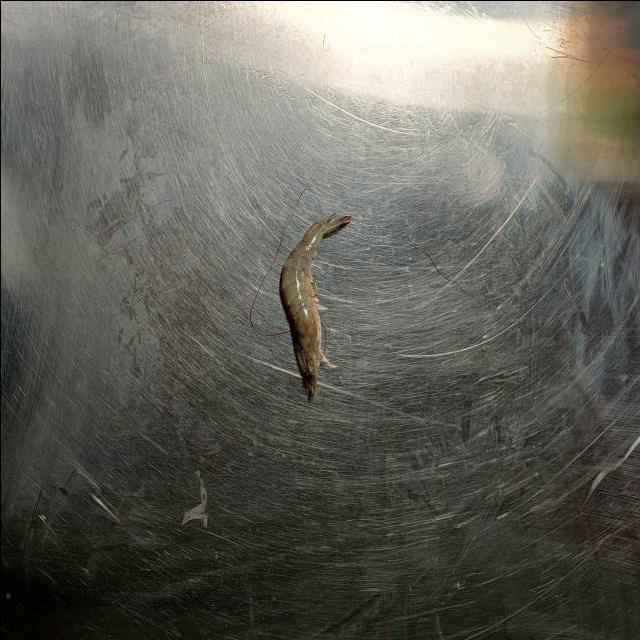shrimp: (280, 214, 351, 398)
